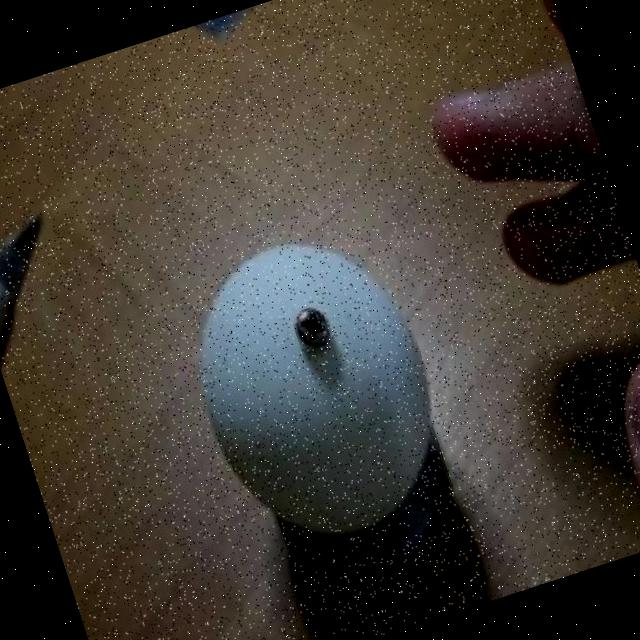ping-pong-ball: (164, 216, 464, 564)
